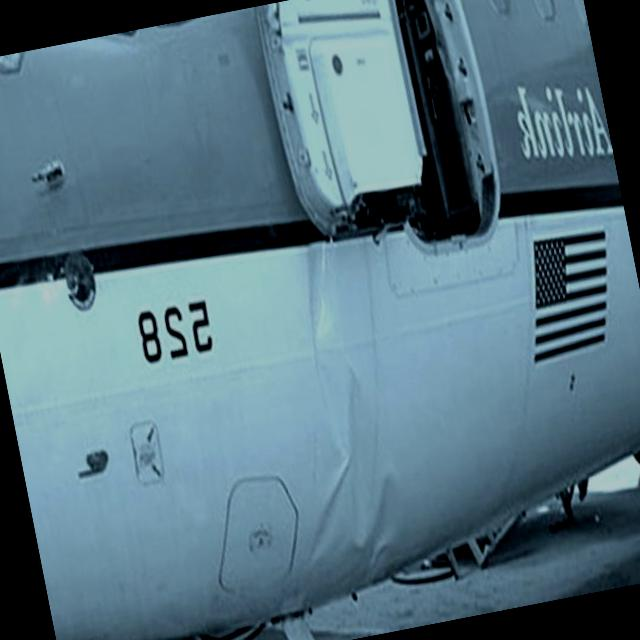dent: (254, 242, 421, 590)
